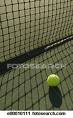tennis ball: (46, 74, 61, 87)
